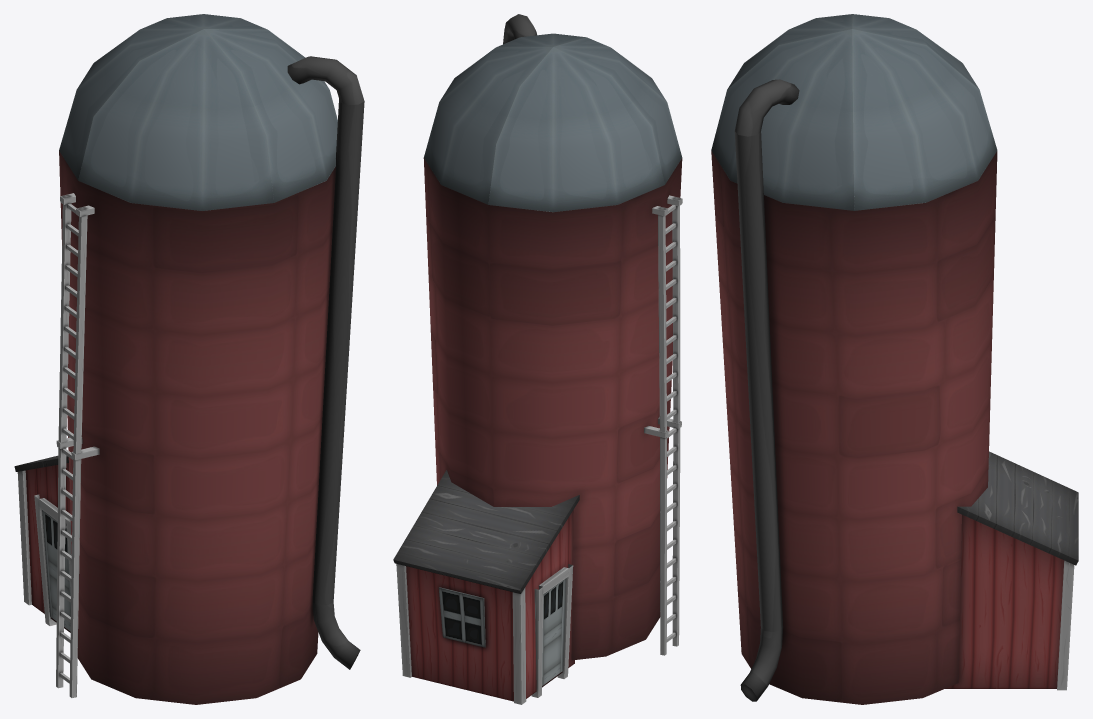
File: silo.FBX
3 views of the same model, side by side, from view 1: azimuth 30°, elevation 25°; view 2: azimuth 150°, elevation 25°; view 3: azimuth 270°, elevation 25° (orthographic). The views are drawn at different scales.
Parts seen in each view (by area): view 1: silo01; view 2: silo01; view 3: silo01.
Boxes of the visible parts, bbox=[...] form: silo01: bbox=[14, 14, 364, 704]; silo01: bbox=[393, 14, 682, 704]; silo01: bbox=[711, 14, 1078, 704].
Size of the model in its own units: 41.83 by 51.42 by 98.75.
